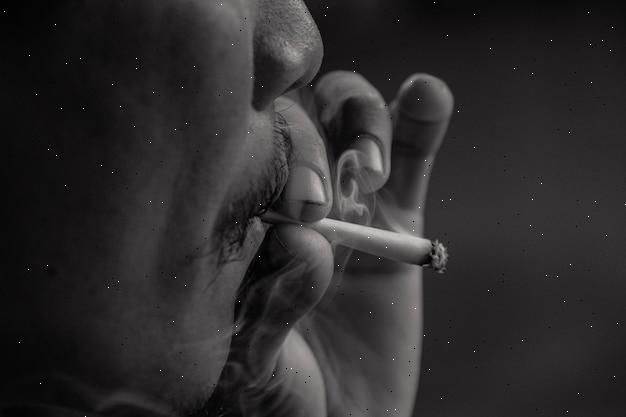cigarette: (261, 211, 447, 271)
